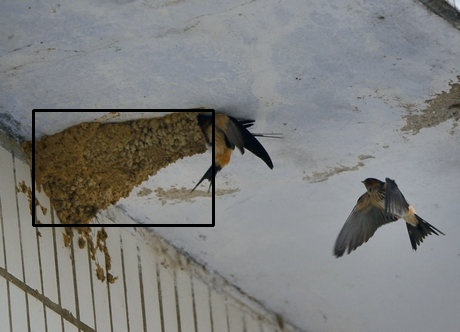bird-nest: (33, 110, 213, 225)
